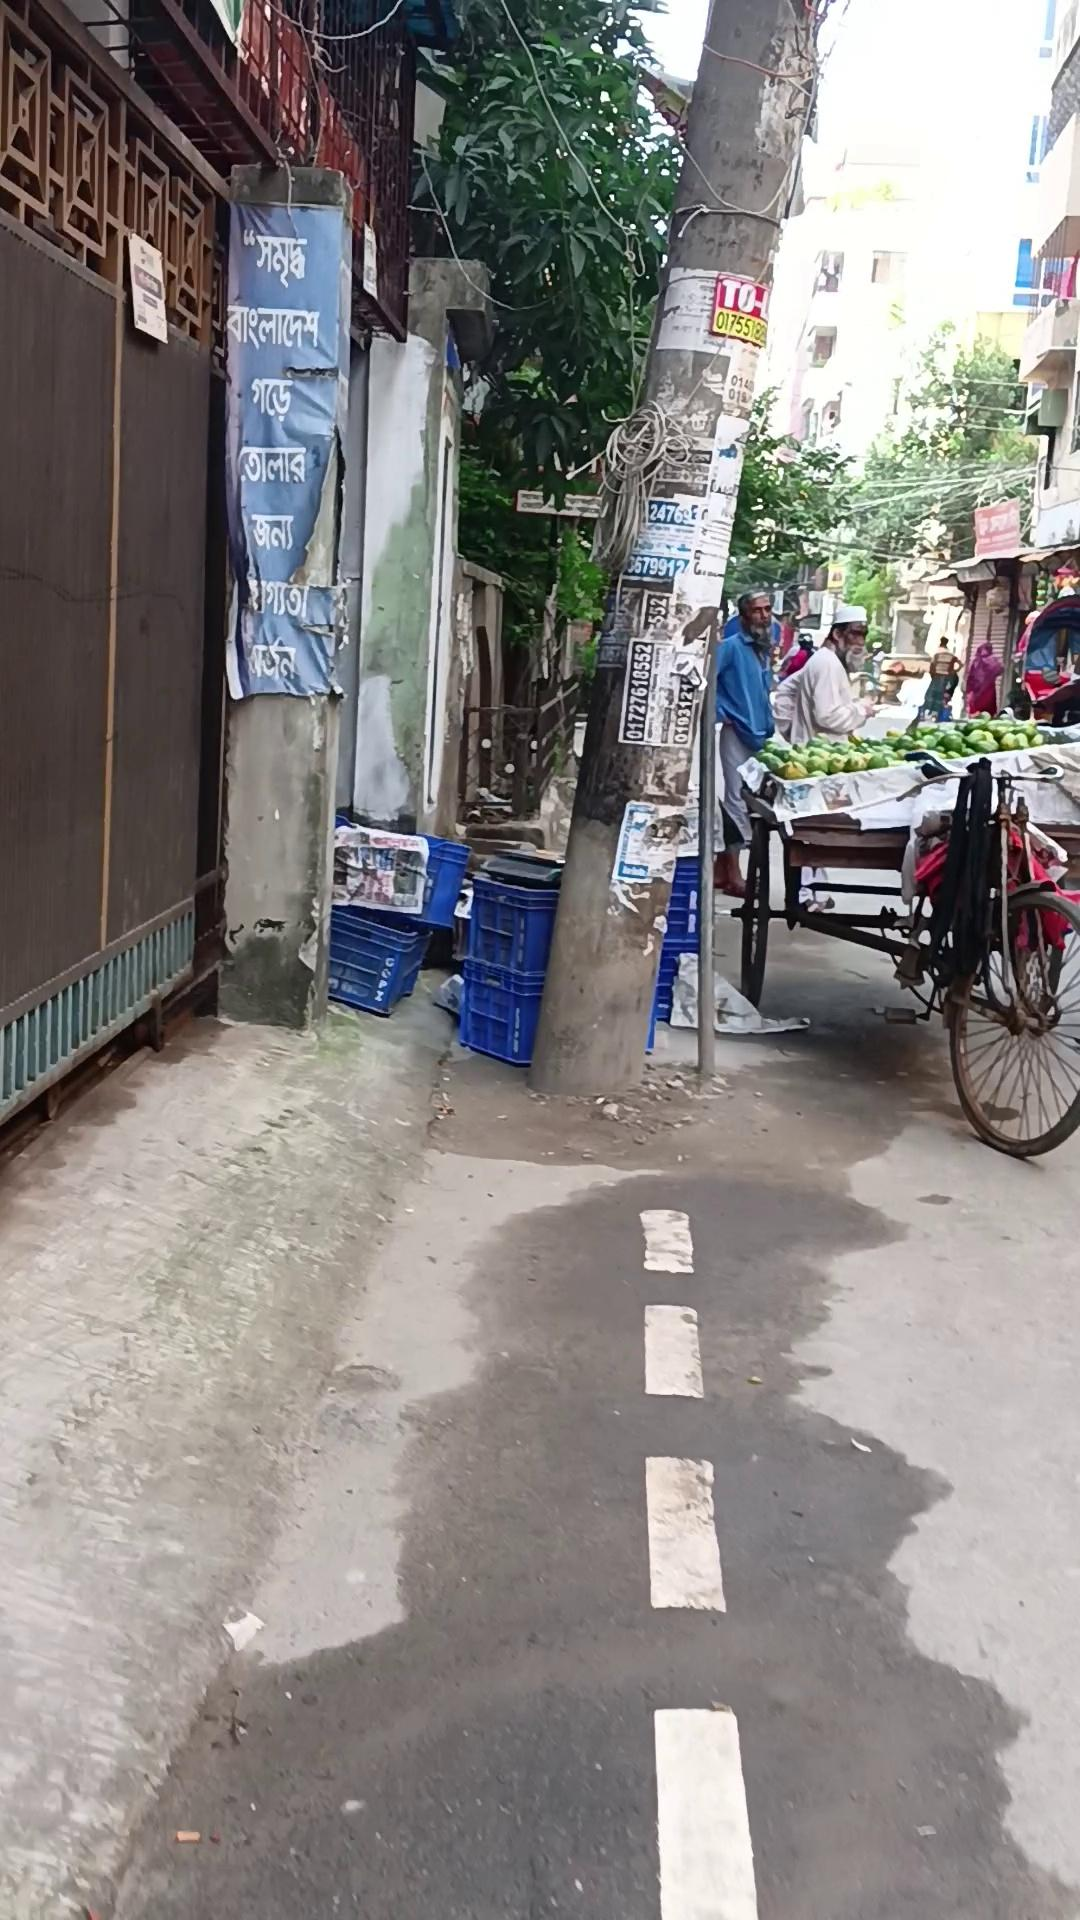Broken-road: (1, 887, 225, 1153)
Cat: (324, 825, 469, 1017), (455, 847, 564, 1067), (324, 902, 433, 1017)
Curb: (711, 589, 781, 897)
Dog: (524, 1, 820, 1096)
Fence: (728, 738, 1077, 1159)
Garbage: (1, 985, 458, 1916)
Obstacle: (345, 328, 459, 836)
